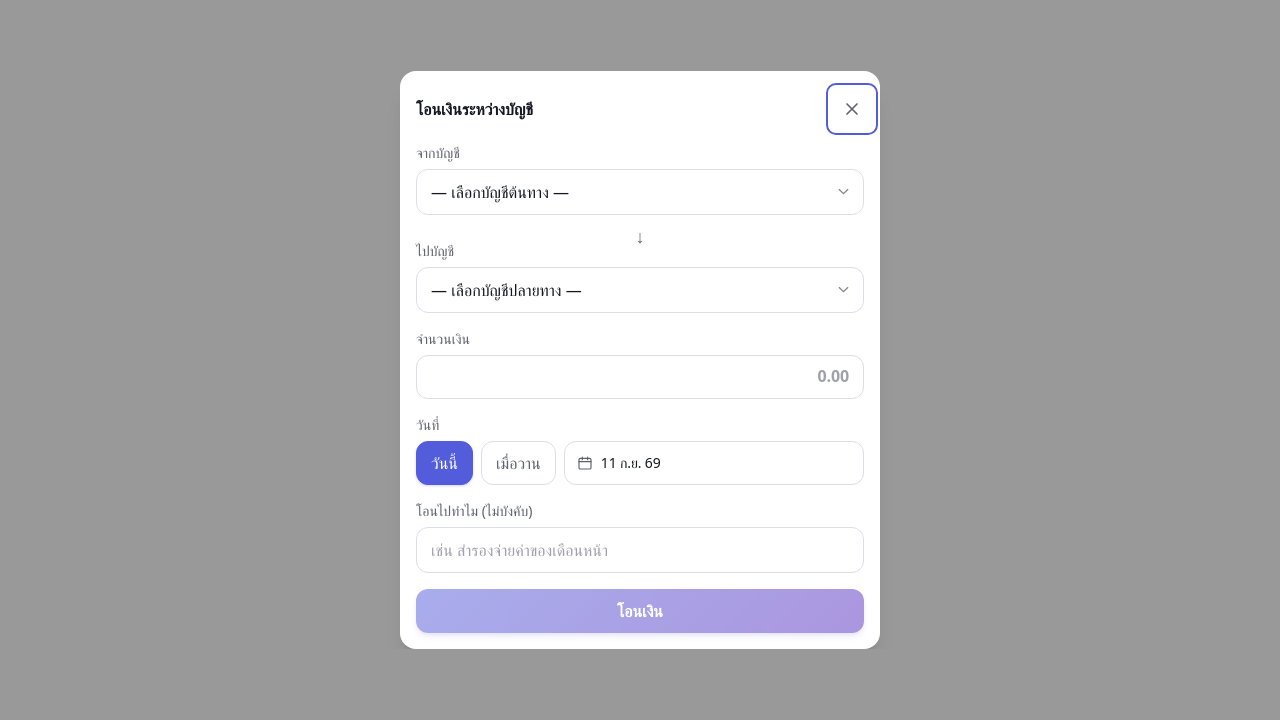
Scenario: โอนทั้งจำนวน › เลือกต้นทางแล้วปุ่มโผล่ พร้อมบอกยอดที่จะเติมให้
The image size is (1280, 720).
Select "SCB · 10,000" in the dropdown labelled "จากบัญชี": point(640, 192) [416, 169, 864, 215]
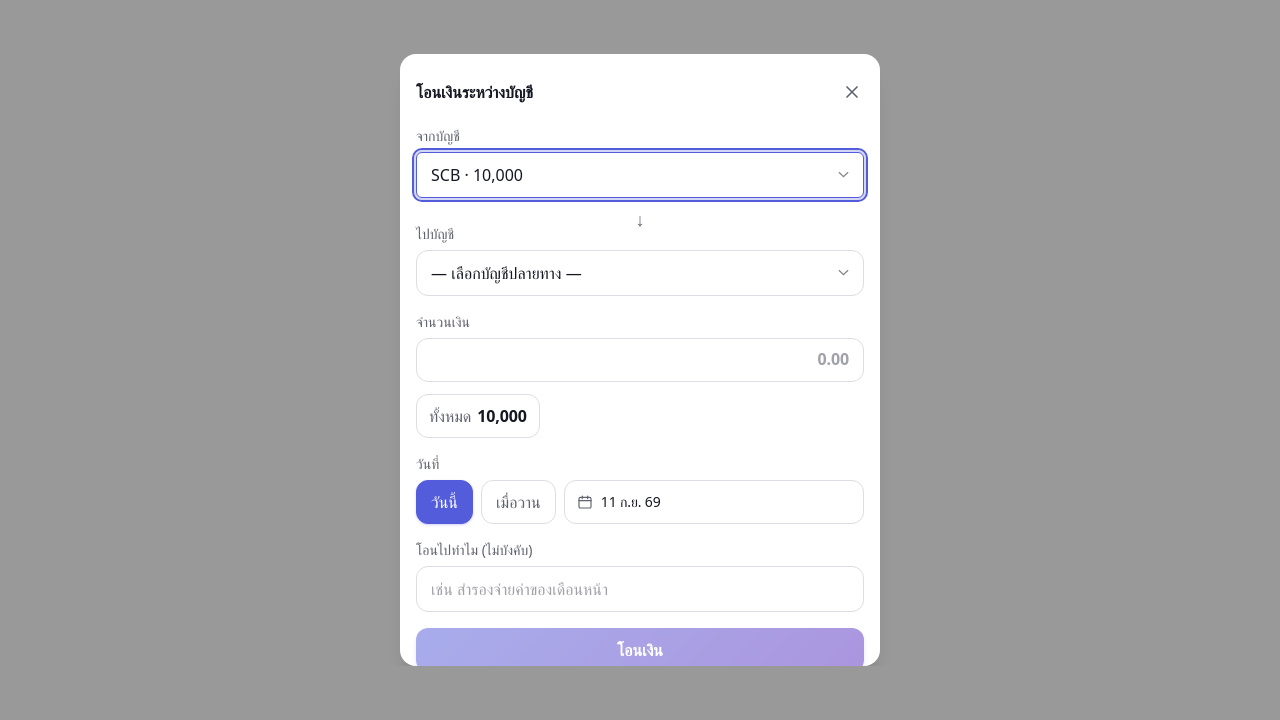
Result: the button "ทั้งหมด 10,000" is shown at [416, 394, 540, 438]
